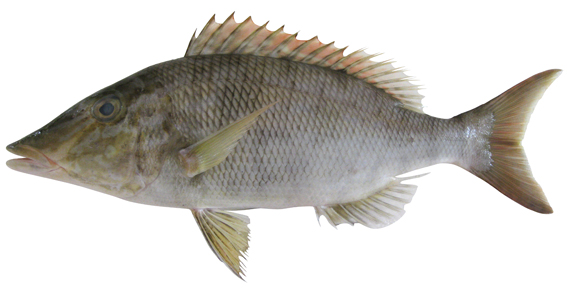fish: (5, 12, 564, 282)
